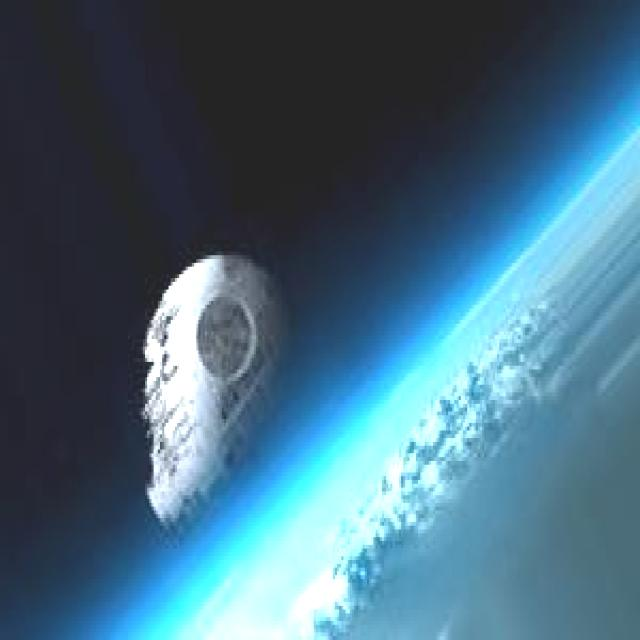deathstar: (141, 250, 301, 563)
